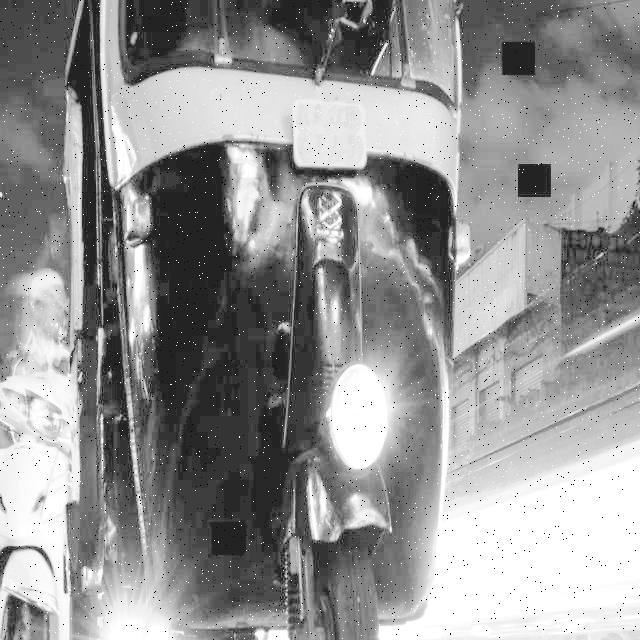Auto-Rickshaw: (53, 7, 467, 639)
